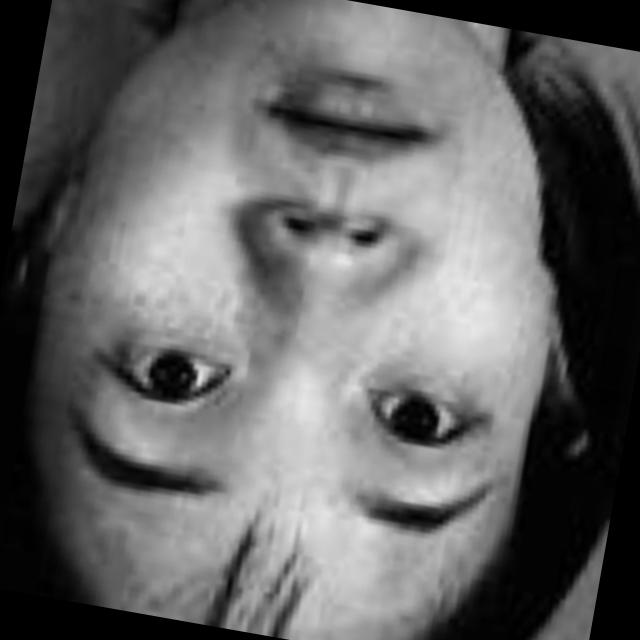surprise: (40, 0, 603, 635)
